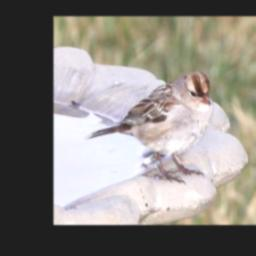Sparrow: (84, 70, 218, 186)
